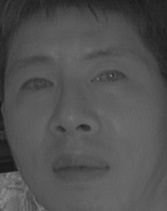eye: (88, 65, 135, 90), (16, 74, 56, 97)
mouth: (49, 148, 113, 186)
